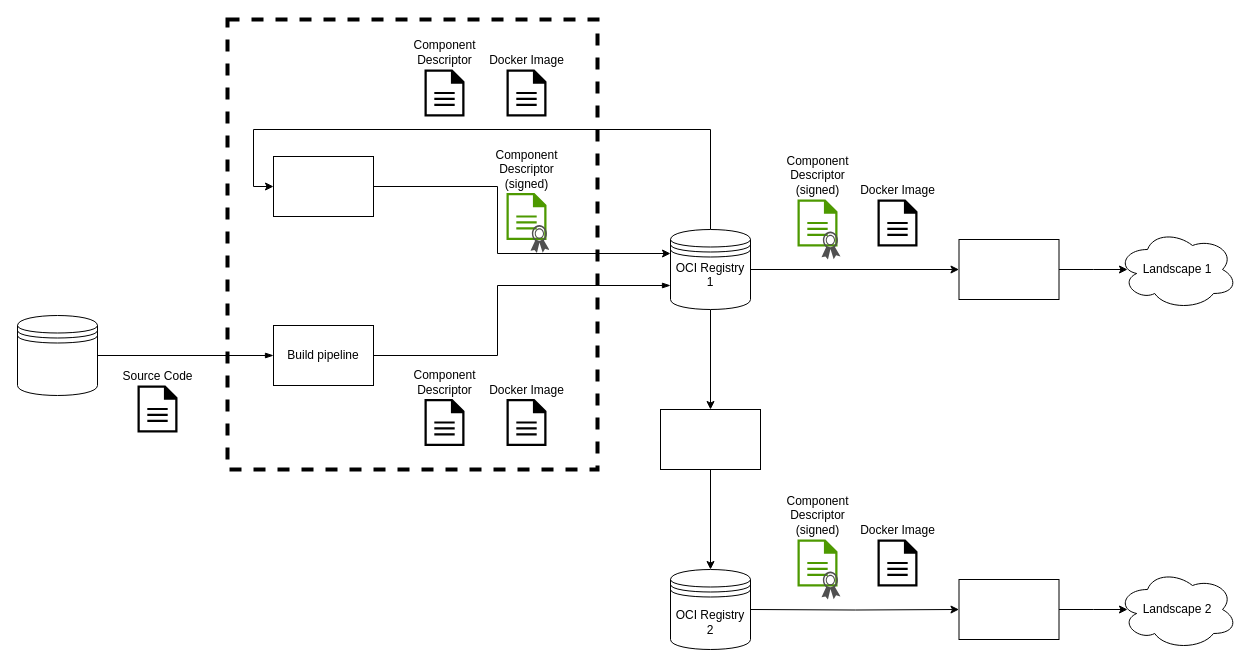
Some shapes in this 1255 by 667 pixel diagram are drawn without their labels. Each missing label, with the centre of its shape:
Deployment Pipeline 1: [1008,269]
Deployment Pipeline 2: [1008,609]
Github Repository: [57,355]
Replication: [710,439]
Signing Pipeline: [323,186]
